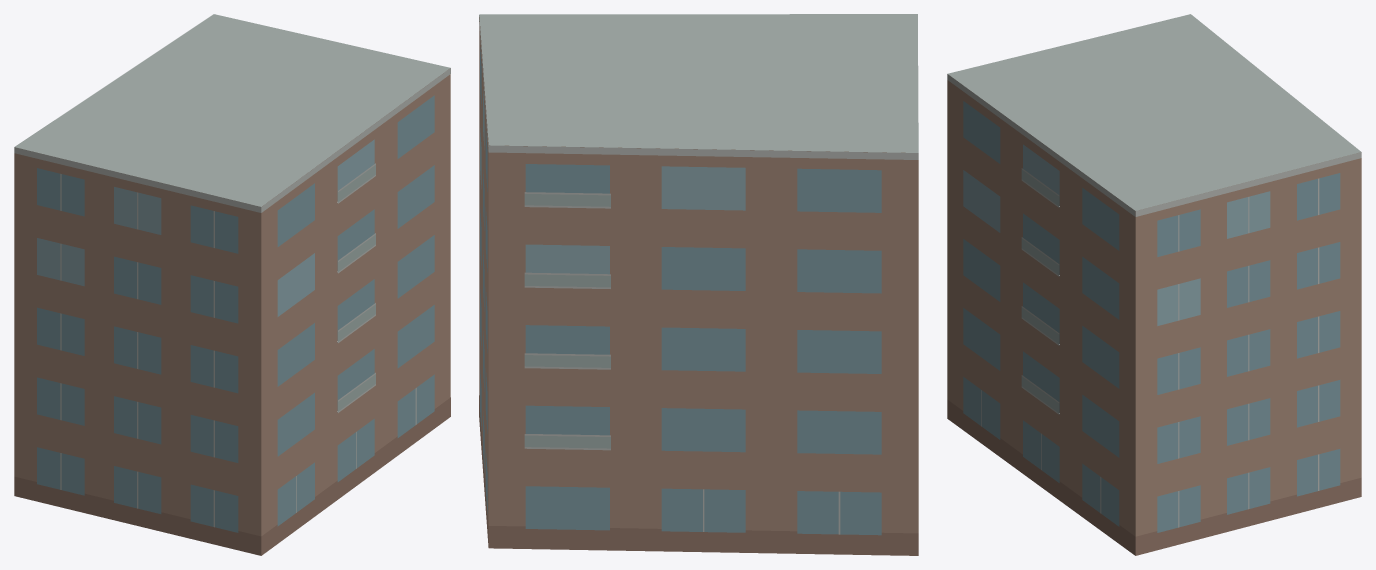
The model's file is survey-upis-32714510.glb.
The picture shows the model from 3 angles, left to right: view 1: azimuth 30°, elevation 25°; view 2: azimuth 150°, elevation 25°; view 3: azimuth 270°, elevation 25°; orthographic projection. The views are drawn at different scales.
Parts seen in each view (by area): view 1: survey-upis-32714510.tmp; view 2: survey-upis-32714510.tmp; view 3: survey-upis-32714510.tmp.
Part boxes in pixels (x1,y1,x2,y2): survey-upis-32714510.tmp: [14, 14, 450, 555]; survey-upis-32714510.tmp: [479, 14, 918, 555]; survey-upis-32714510.tmp: [947, 14, 1361, 555].
Size of the model in its own units: 17.04 by 13.9 by 15.14.
